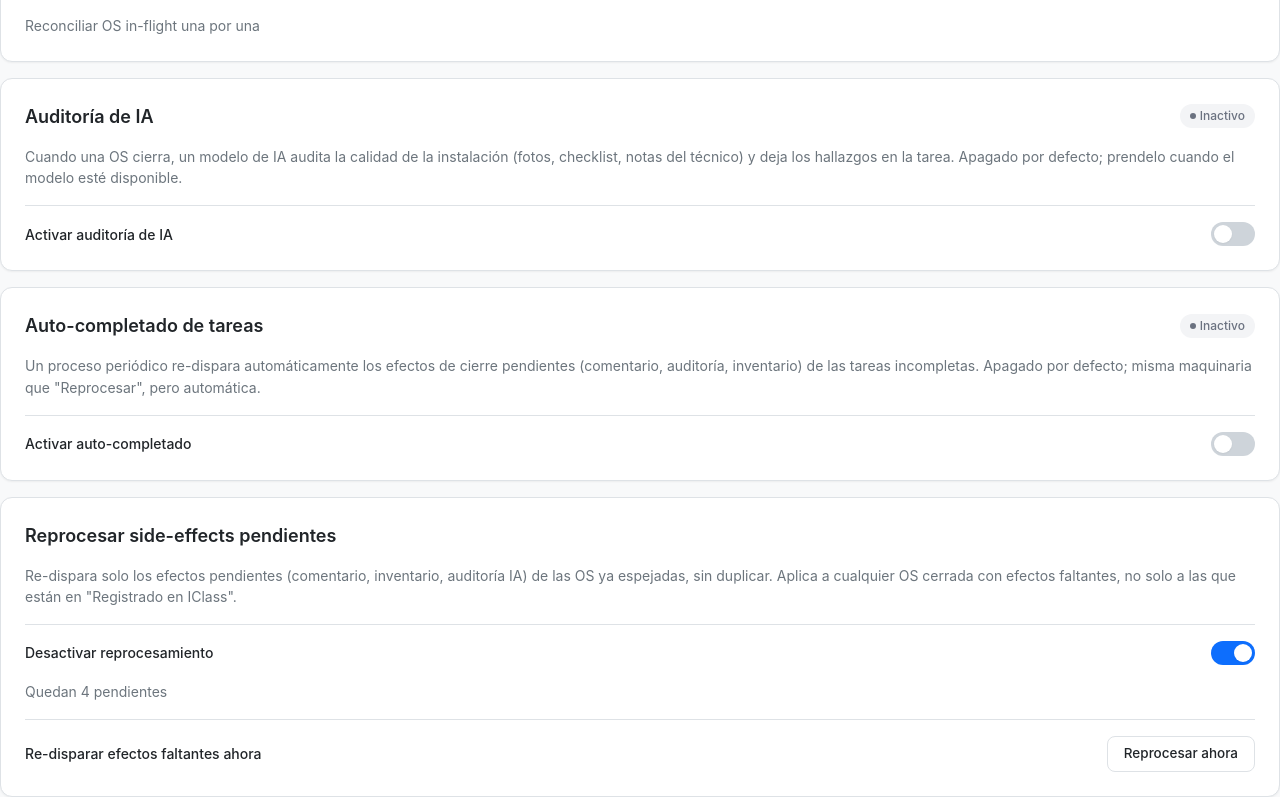
IClassClosureFlagBody › queued banner includes the pending count when pending>0
(page scrolled)
Click the button "Reprocesar ahora": x=1181, y=754 [1107, 736, 1255, 772]
(page scrolled)
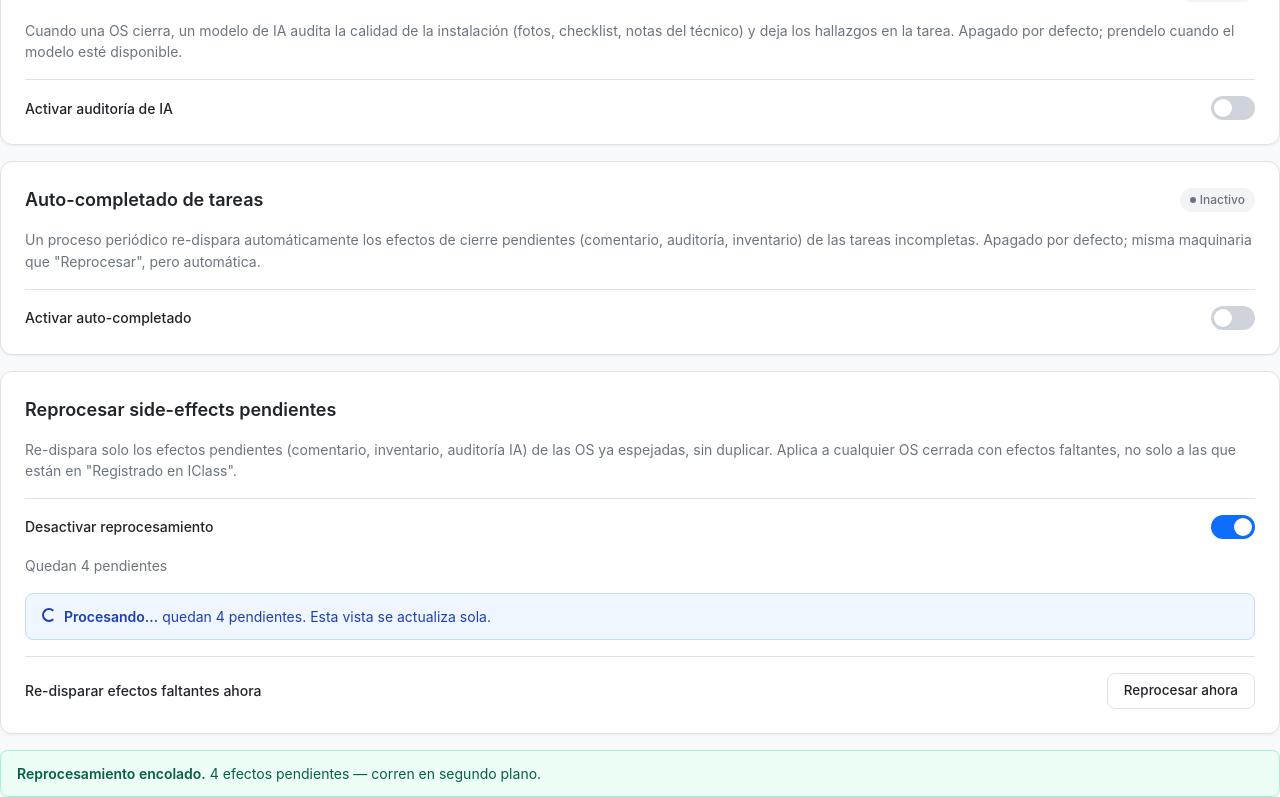
Result: the element that starts with "Reprocesamiento encolado." shows "4 efectos pendientes" at [0, 750, 1279, 796]
